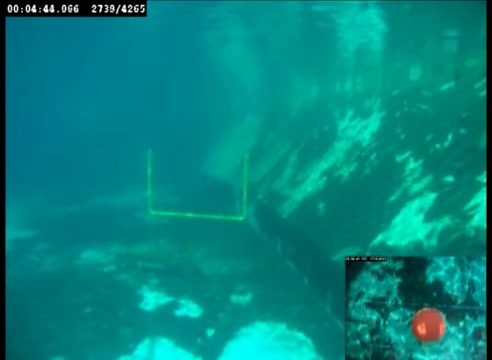channel: (144, 147, 250, 222)
